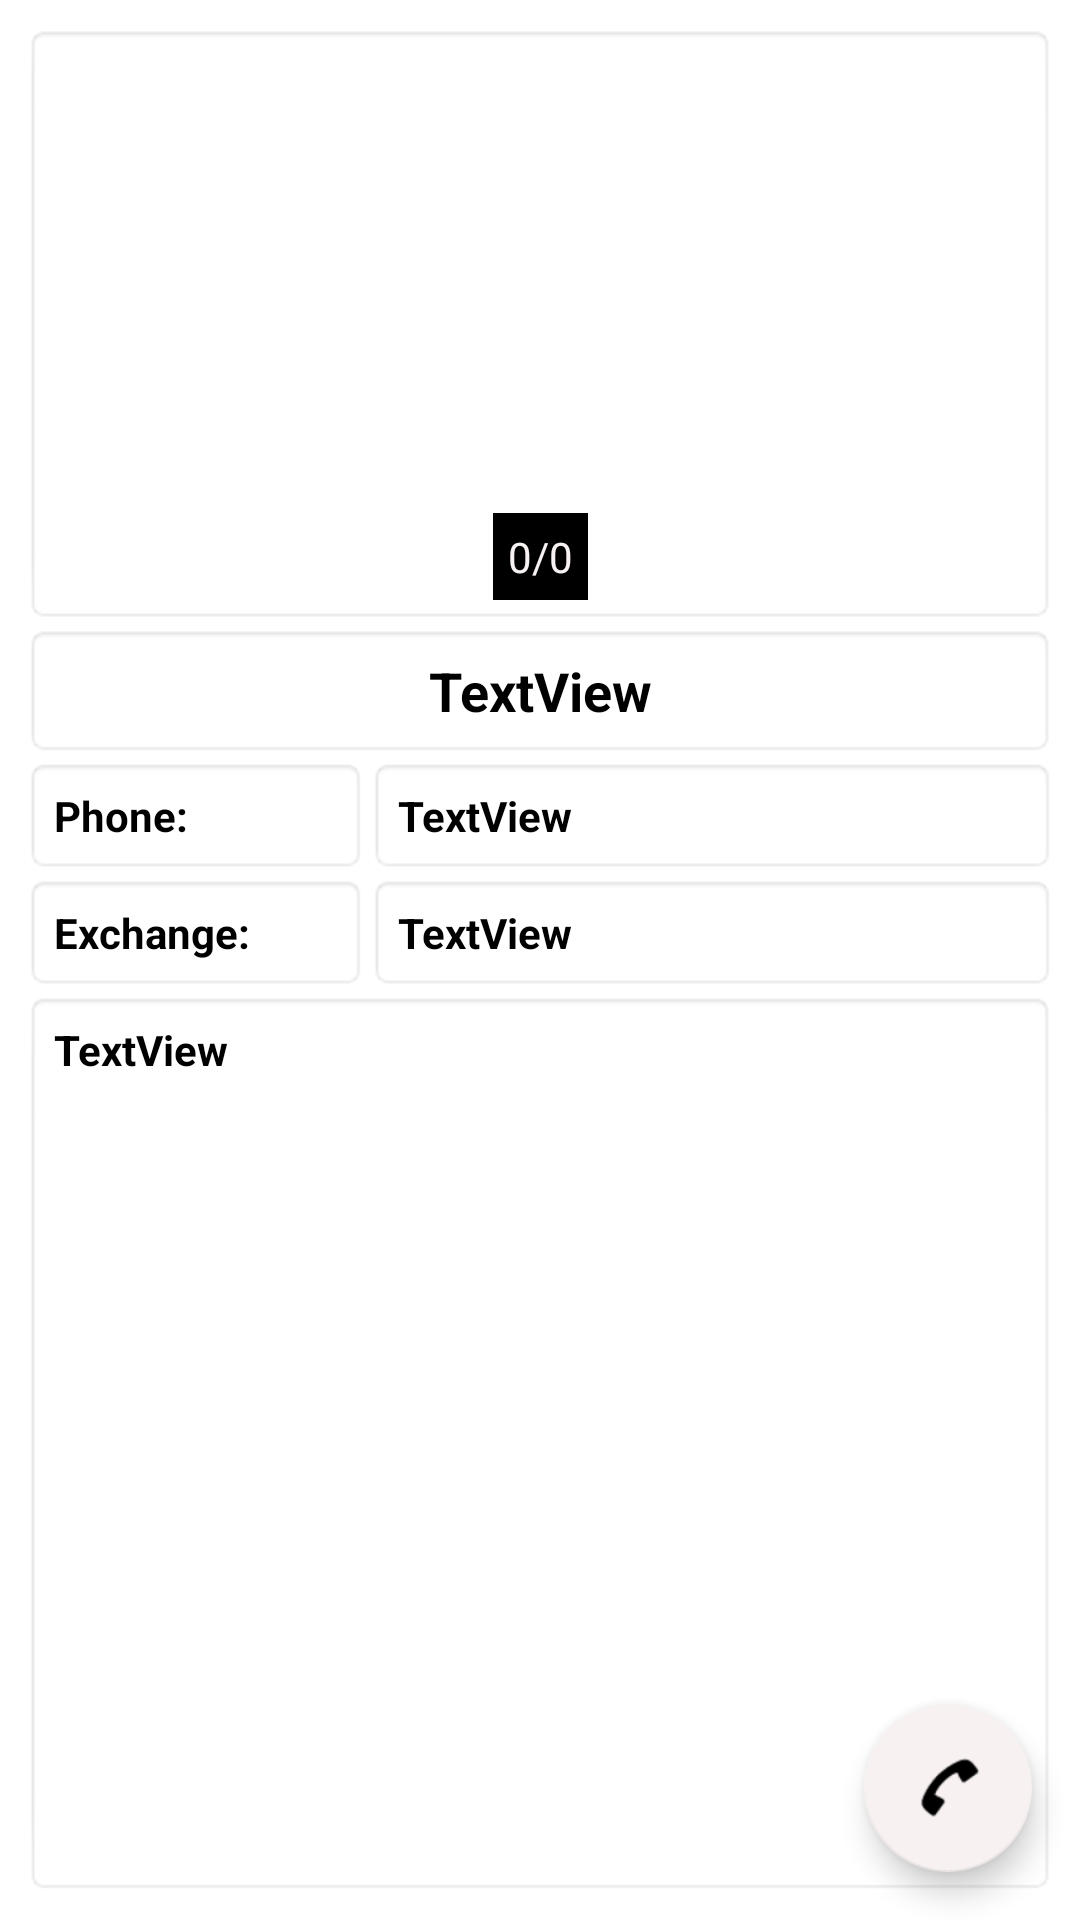

Icons on this 1080 × 1920 Android screen, each with the point to tap as (x=x, y=y):
sym action call: (x=948, y=1788)
